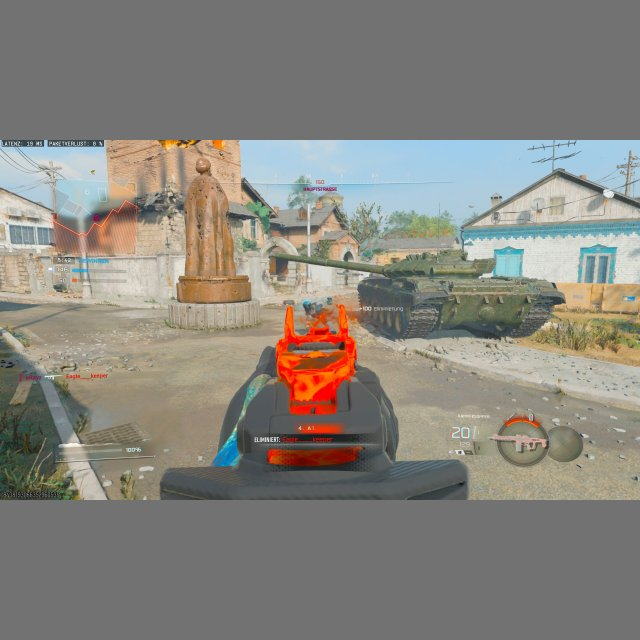player: (53, 279, 68, 294)
